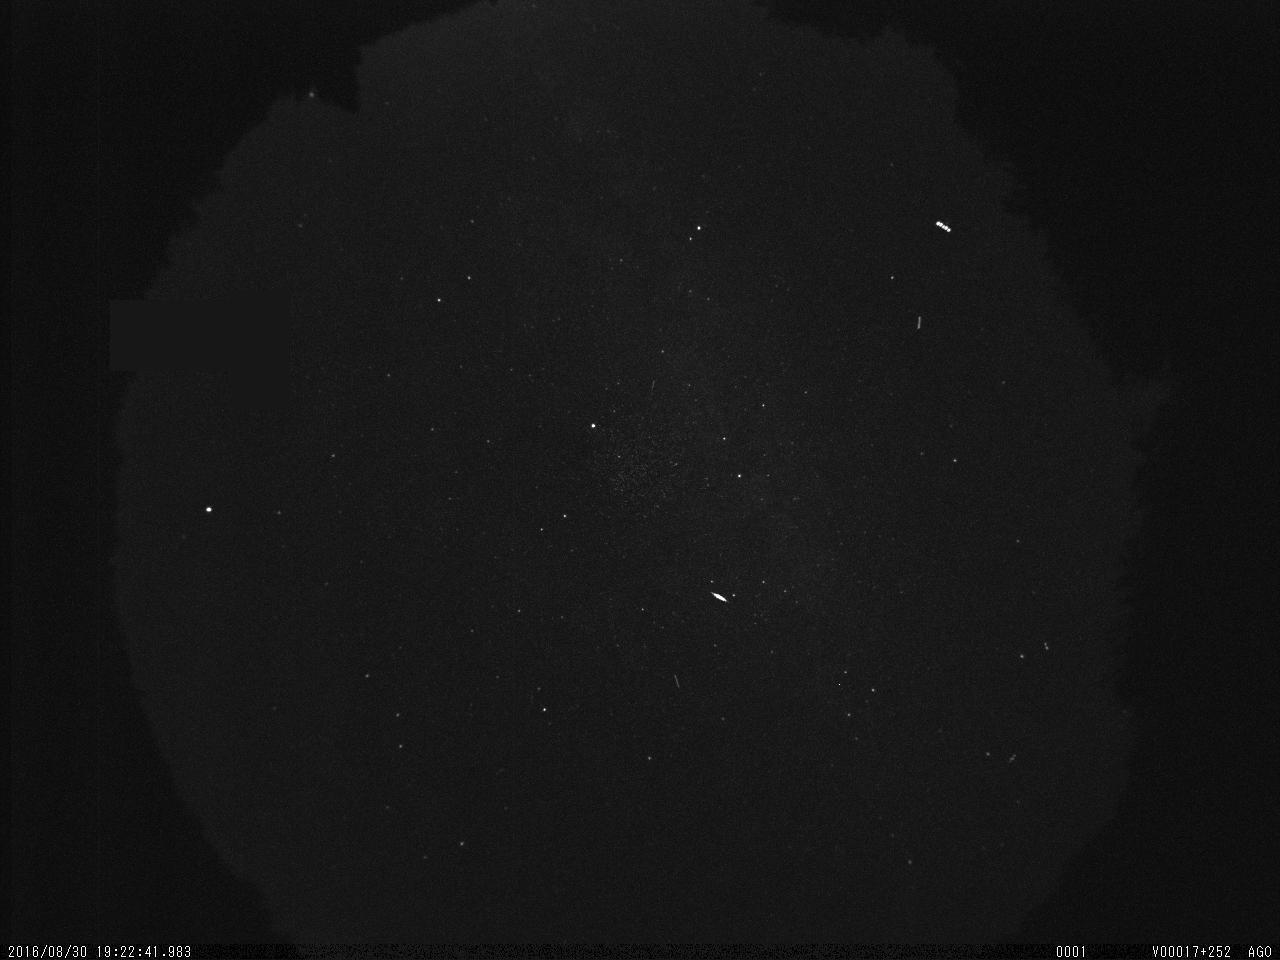meteor: (699, 580, 738, 618)
